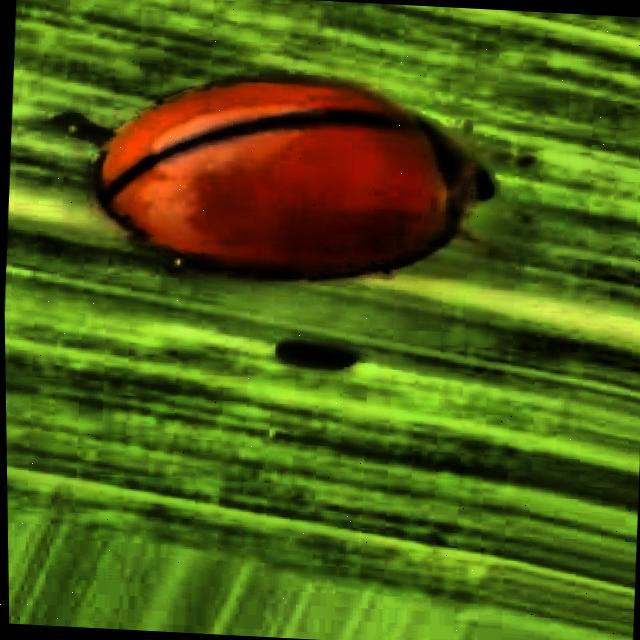Ladybug: (0, 0, 564, 347)
